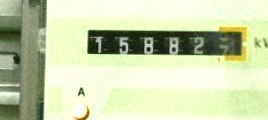1: (93, 34, 102, 52)
2: (192, 34, 204, 54)
5: (115, 35, 129, 54)
7: (216, 42, 228, 54)
8: (166, 34, 180, 55), (142, 34, 154, 54)
screen: (81, 21, 251, 64)
